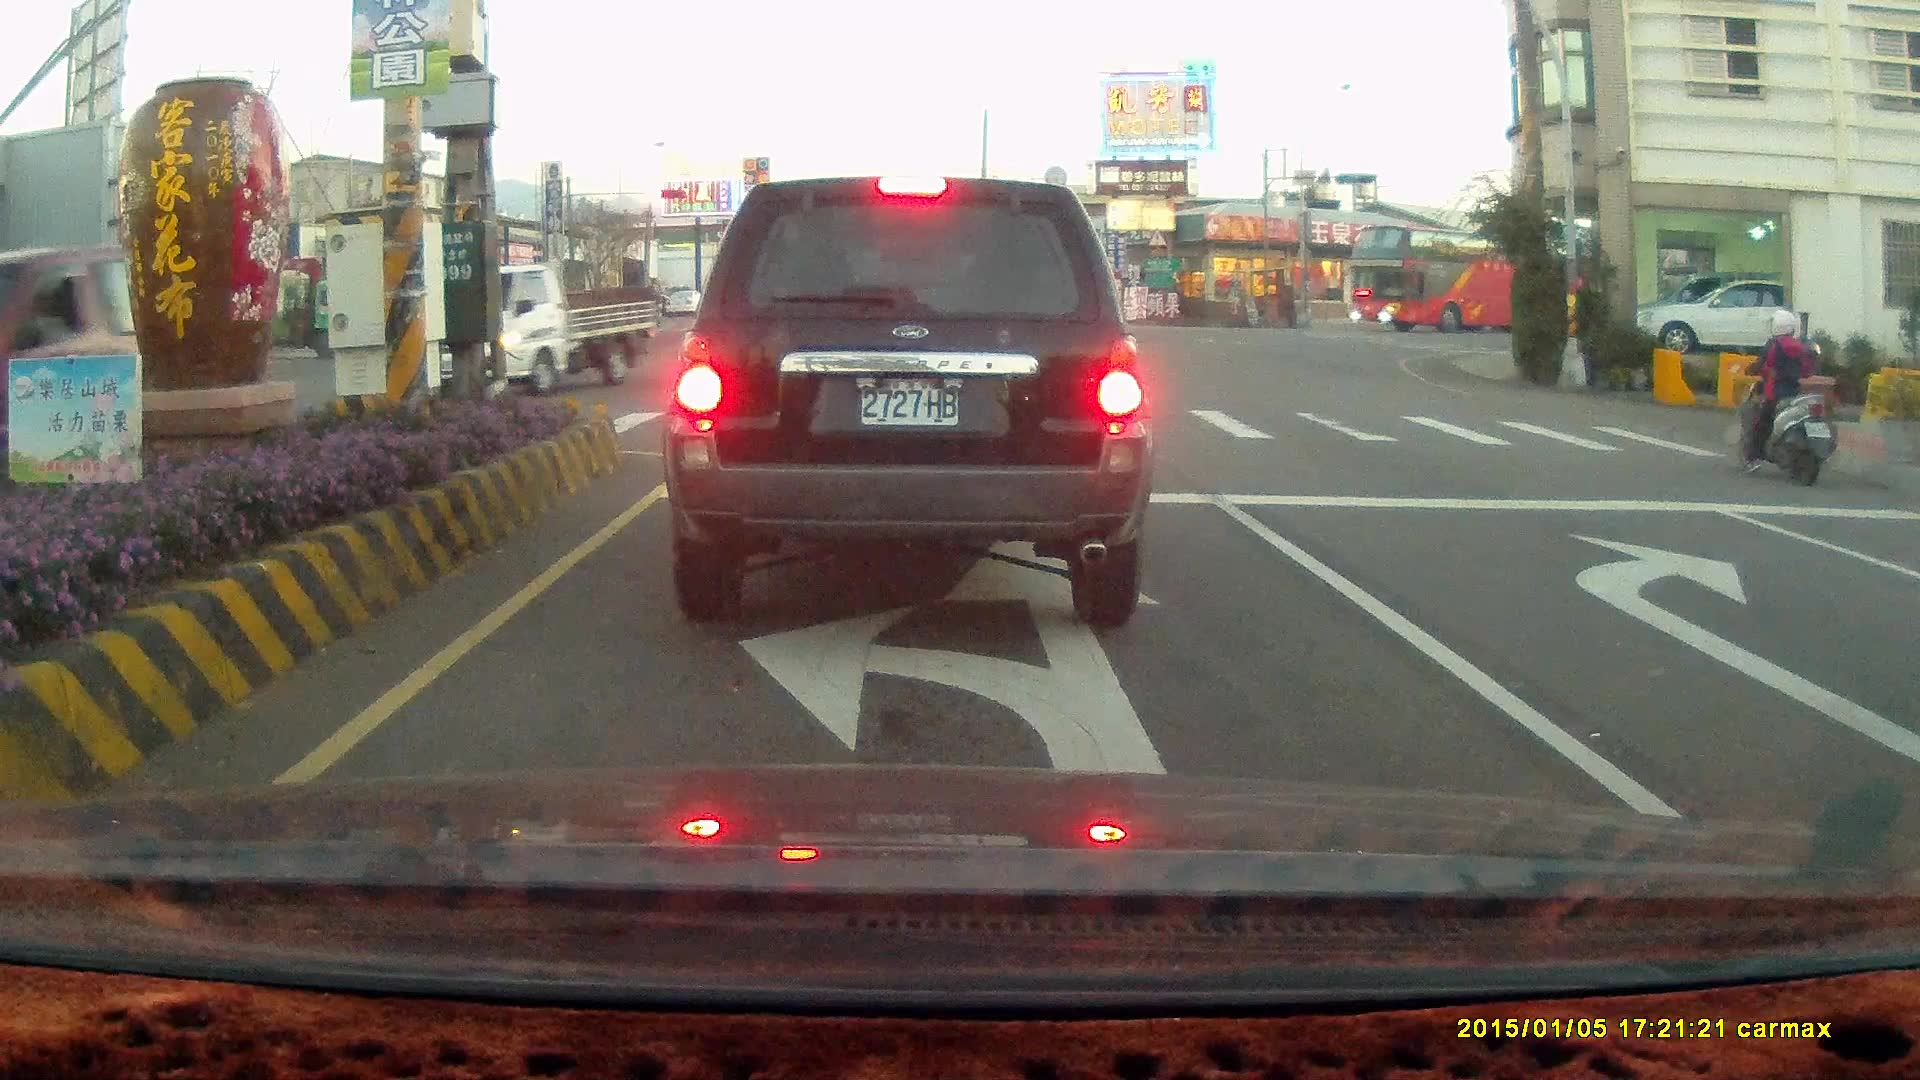rider: (1727, 308, 1833, 484)
vehicle: (660, 174, 1153, 630), (0, 240, 259, 511), (411, 259, 665, 398), (1342, 223, 1591, 334), (1621, 274, 1829, 353), (1642, 275, 1784, 356), (1896, 493, 1920, 836), (1883, 528, 1920, 690)
